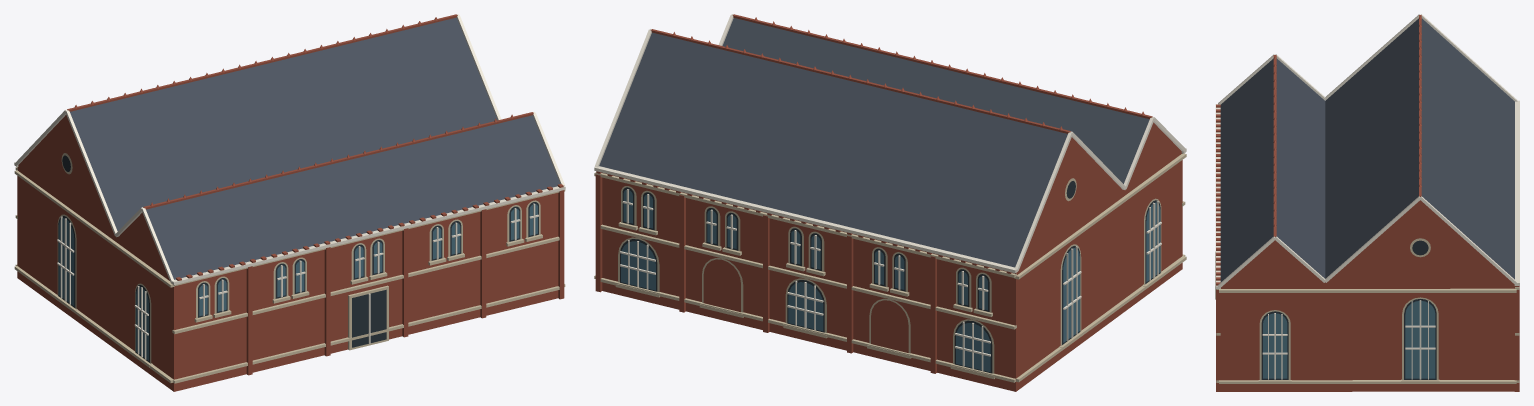
The model's file is machinegebouw.glb.
3 views of the same model, side by side, from view 1: azimuth 30°, elevation 25°; view 2: azimuth 150°, elevation 25°; view 3: azimuth 270°, elevation 25° (orthographic). The views are drawn at different scales.
Visible parts, largest first — view 1: machinegebouw; view 2: machinegebouw; view 3: machinegebouw.
Boxes of the visible parts, left/top/right/bottom form: machinegebouw: left=14, top=14, right=565, bottom=391; machinegebouw: left=594, top=14, right=1186, bottom=391; machinegebouw: left=1215, top=14, right=1519, bottom=391.
Bounding box in the file's own units: 26.09 × 13.15 × 18.26.
